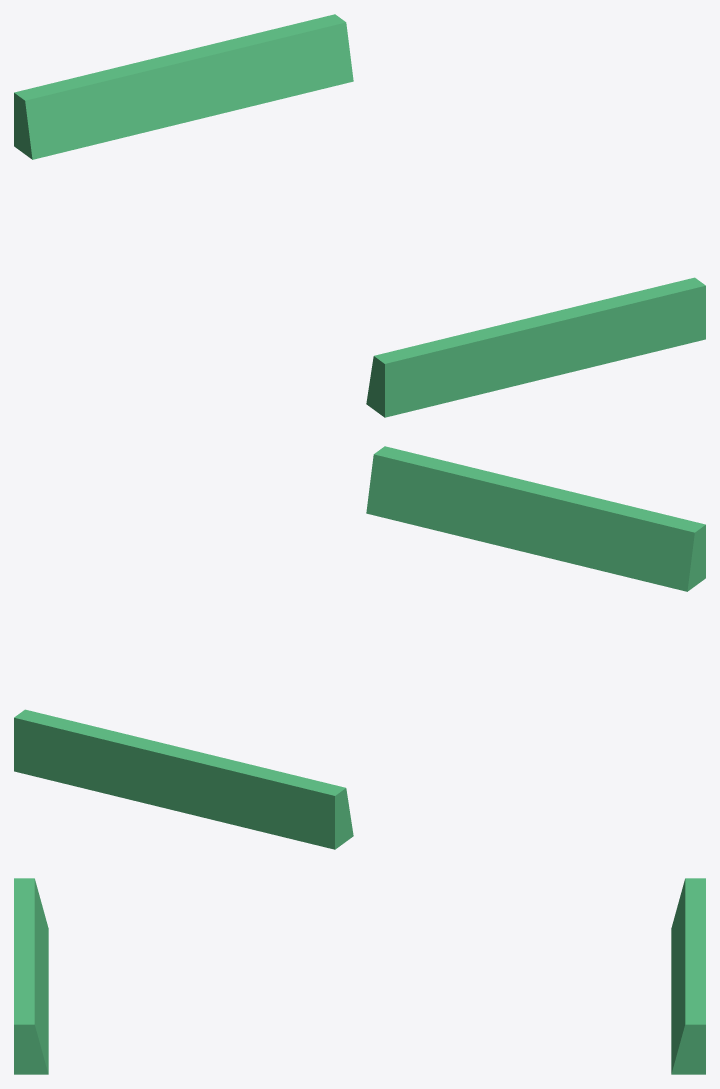
File: road_straight_barrier_half.glb
3 views of the same model, one above another, from view 1: azimuth 30°, elevation 25°; view 2: azimuth 150°, elevation 25°; view 3: azimuth 270°, elevation 25° (orthographic). The views are drawn at different scales.
Visible parts, largest first — view 1: road-straight-barrier-half; view 2: road-straight-barrier-half; view 3: road-straight-barrier-half.
Boxes of the visible parts, <box> form: road-straight-barrier-half: <box>14,14,705,417</box>; road-straight-barrier-half: <box>14,446,705,849</box>; road-straight-barrier-half: <box>14,878,705,1074</box>.
Bounding box in the file's own units: 0.5 × 0.08 × 1.
1 material, 1 textured.
